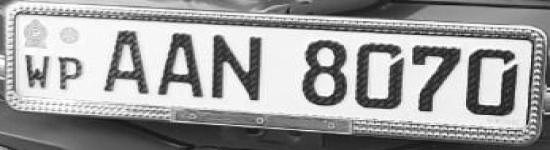0: (463, 43, 524, 121), (352, 39, 406, 115)
7: (405, 40, 466, 119)
8: (297, 35, 351, 113)
A: (151, 29, 205, 102), (100, 24, 151, 98)
N: (206, 30, 268, 106)
P: (54, 54, 86, 95)
W: (22, 50, 52, 90)
